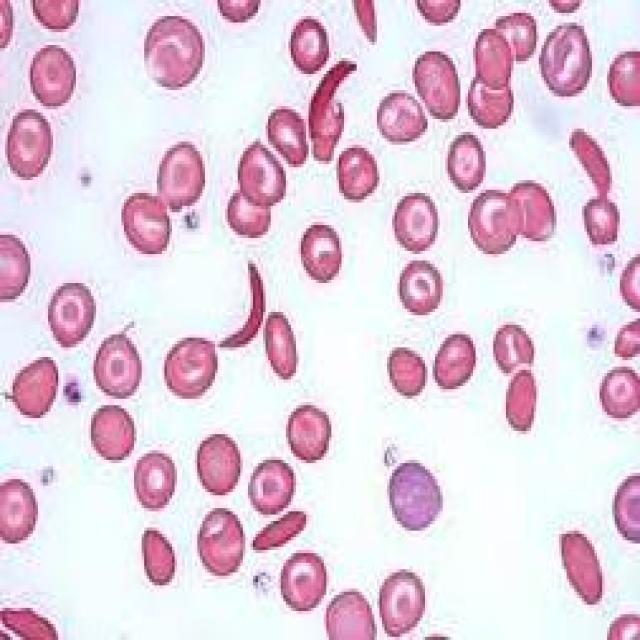RBC: (134, 10, 210, 103), (531, 16, 597, 100), (280, 399, 346, 482), (111, 183, 182, 260), (461, 183, 524, 267), (270, 547, 336, 624), (152, 135, 210, 222), (0, 103, 58, 190), (405, 45, 465, 129), (195, 496, 250, 586), (245, 498, 324, 560), (228, 135, 294, 209), (372, 559, 430, 640), (384, 183, 442, 264), (184, 431, 250, 502), (481, 318, 552, 383), (0, 454, 46, 553), (91, 328, 149, 405), (134, 511, 187, 595), (501, 180, 561, 254), (554, 521, 605, 608), (23, 38, 81, 112), (425, 328, 483, 402), (438, 128, 493, 206), (390, 254, 452, 322), (126, 444, 180, 521), (466, 20, 521, 94), (329, 142, 387, 212), (86, 408, 144, 473), (218, 184, 280, 242), (496, 367, 546, 438), (283, 13, 334, 80), (298, 222, 346, 293), (246, 453, 298, 518), (46, 283, 98, 347), (374, 90, 428, 151), (466, 67, 516, 132), (258, 312, 306, 379), (382, 344, 433, 405), (594, 360, 640, 425), (609, 462, 640, 556), (0, 222, 30, 312), (26, 0, 84, 39), (582, 193, 622, 248), (607, 48, 640, 113)
WBC: (382, 457, 450, 537)
sickle cell: (210, 254, 278, 354), (298, 51, 364, 145)
